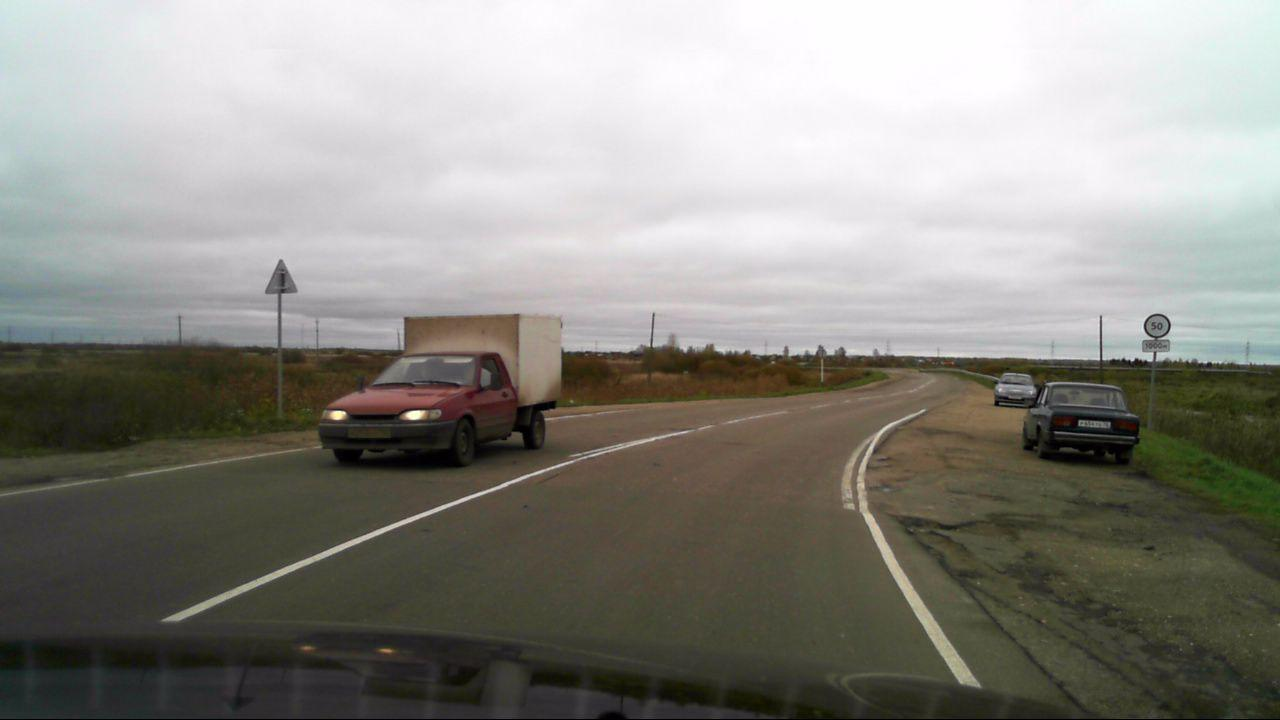road_sign: (1144, 313, 1172, 338)
